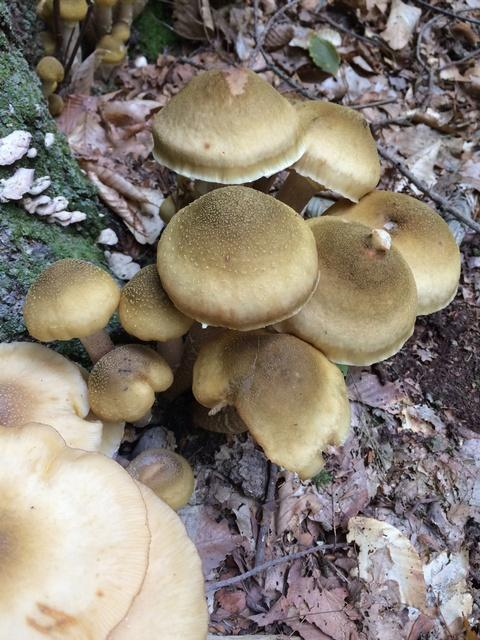Edible Mushroom: (1, 64, 461, 636), (191, 328, 351, 481), (155, 184, 320, 331), (150, 65, 306, 198)
